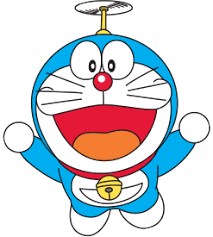doraemon: (2, 33, 211, 237)
